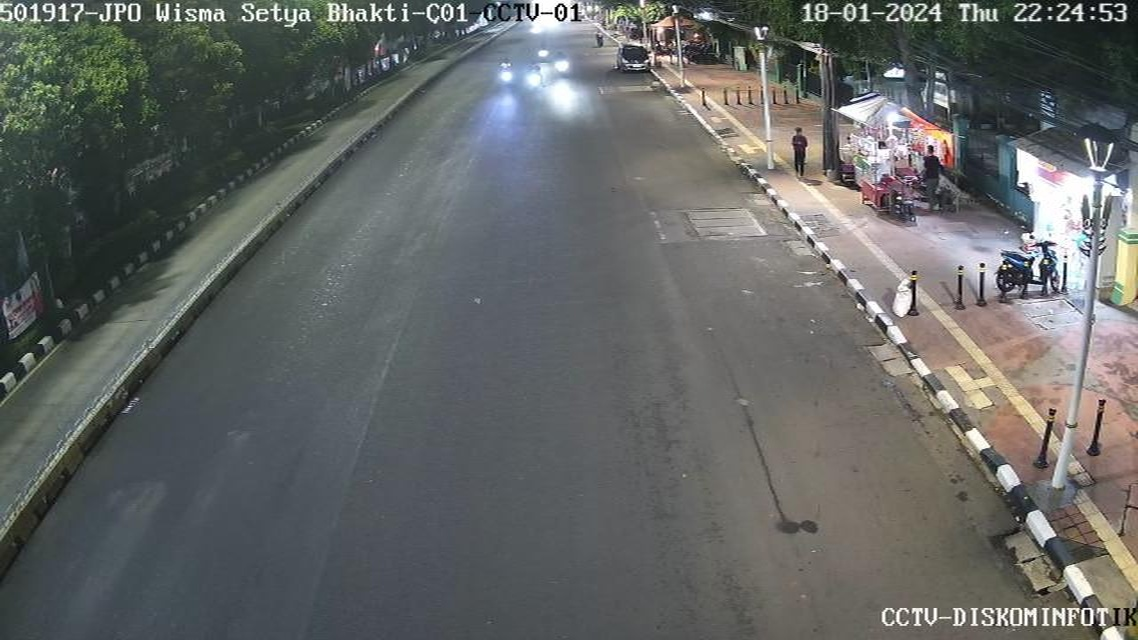Emperan: (1003, 110, 1138, 294), (845, 129, 919, 214)
Terpal: (837, 96, 919, 127)
